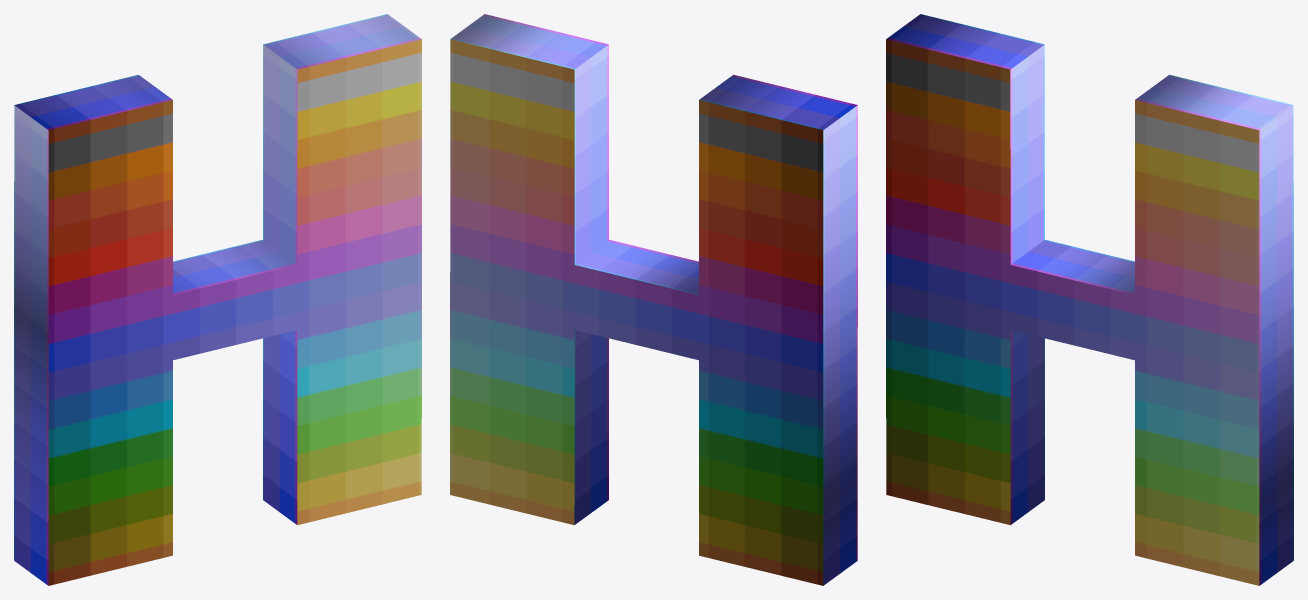
3 renders of one model, left to right at view 1: azimuth 30°, elevation 25°; view 2: azimuth 150°, elevation 25°; view 3: azimuth 330°, elevation 25°, orthographic.
Visible parts, largest first — view 1: h; view 2: h; view 3: h.
Boxes of the visible parts, x1,y1,x2,y2 form: h: (14, 14, 421, 585); h: (450, 14, 857, 585); h: (886, 14, 1293, 585).
Size of the model in its own units: 0.5 by 0.5834 by 0.0803.
Materials: 1 (1 with a texture image).
